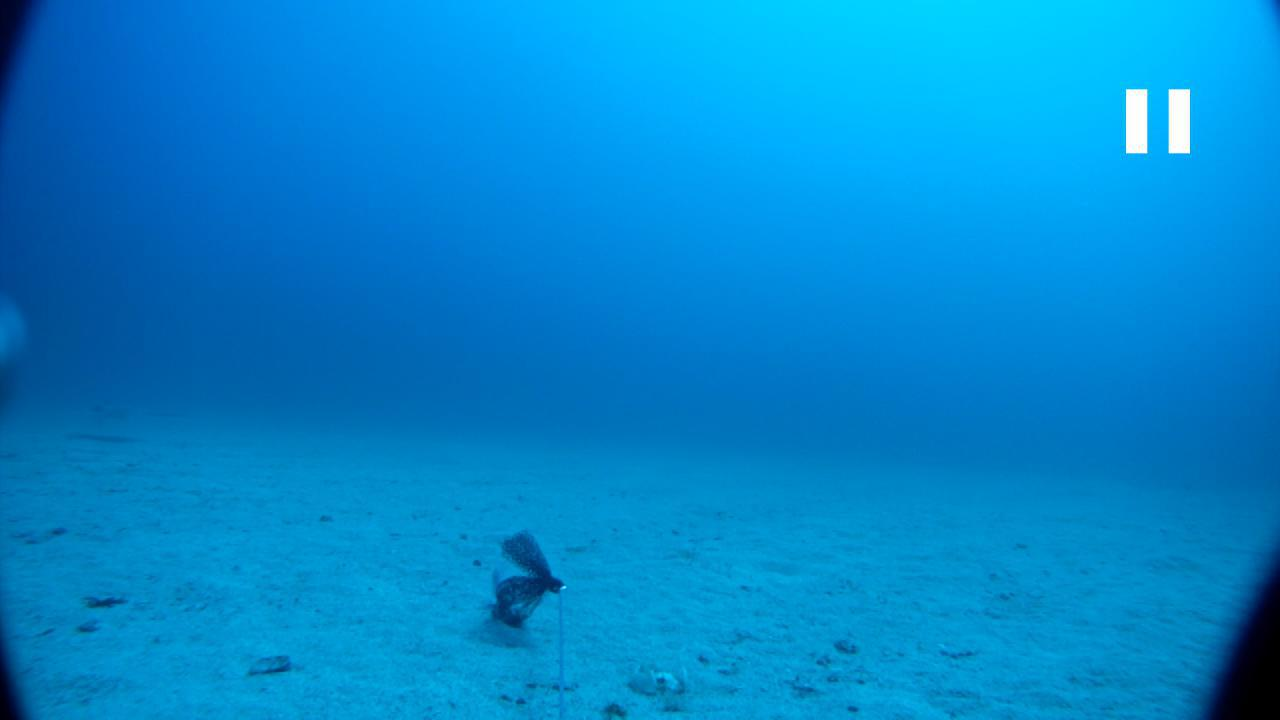dasyatis: (90, 400, 186, 426)
